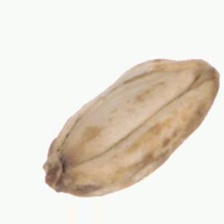L1: (189, 54, 221, 96), (42, 149, 67, 196)
L2: (42, 57, 219, 199)
